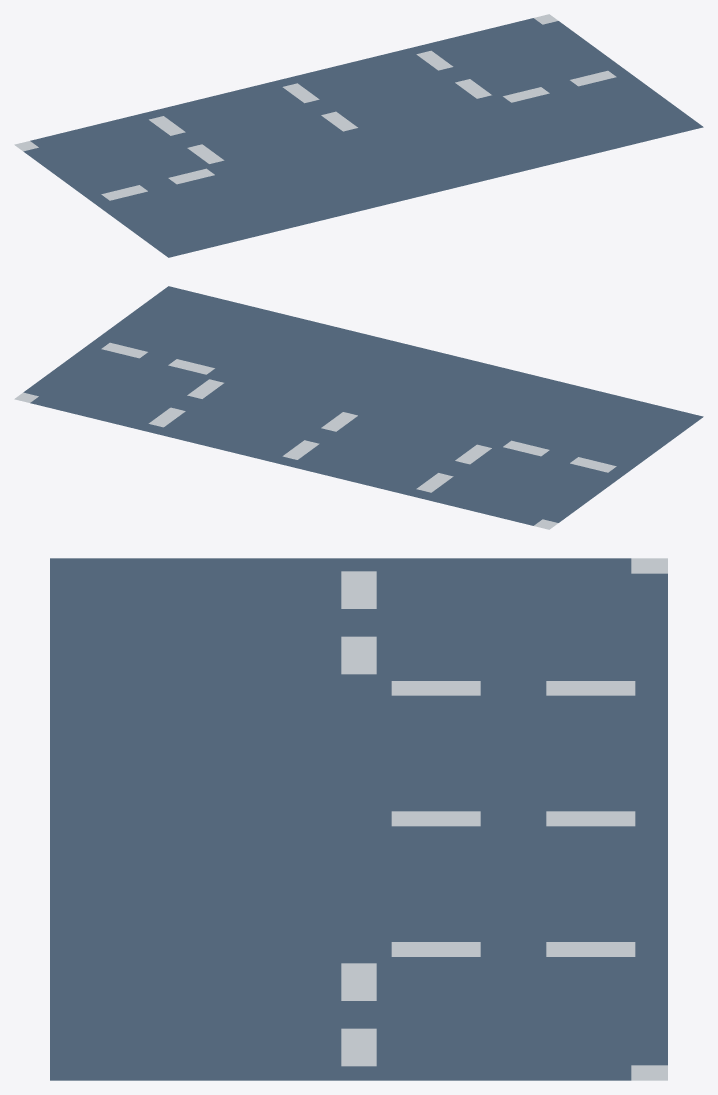
The model's file is road_door.fbx.
3 renders of one model, top to bottom at view 1: azimuth 30°, elevation 25°; view 2: azimuth 150°, elevation 25°; view 3: azimuth 270°, elevation 25°, orthographic. The views are drawn at different scales.
Visible parts, largest first — view 1: road_door; view 2: road_door; view 3: road_door.
Boxes of the visible parts, box(x1,y1,x2,y2) form: road_door: box(14, 14, 703, 257); road_door: box(14, 286, 703, 529); road_door: box(50, 558, 667, 1080).
Bounding box in the file's own units: 2000 × 1 × 1000.
